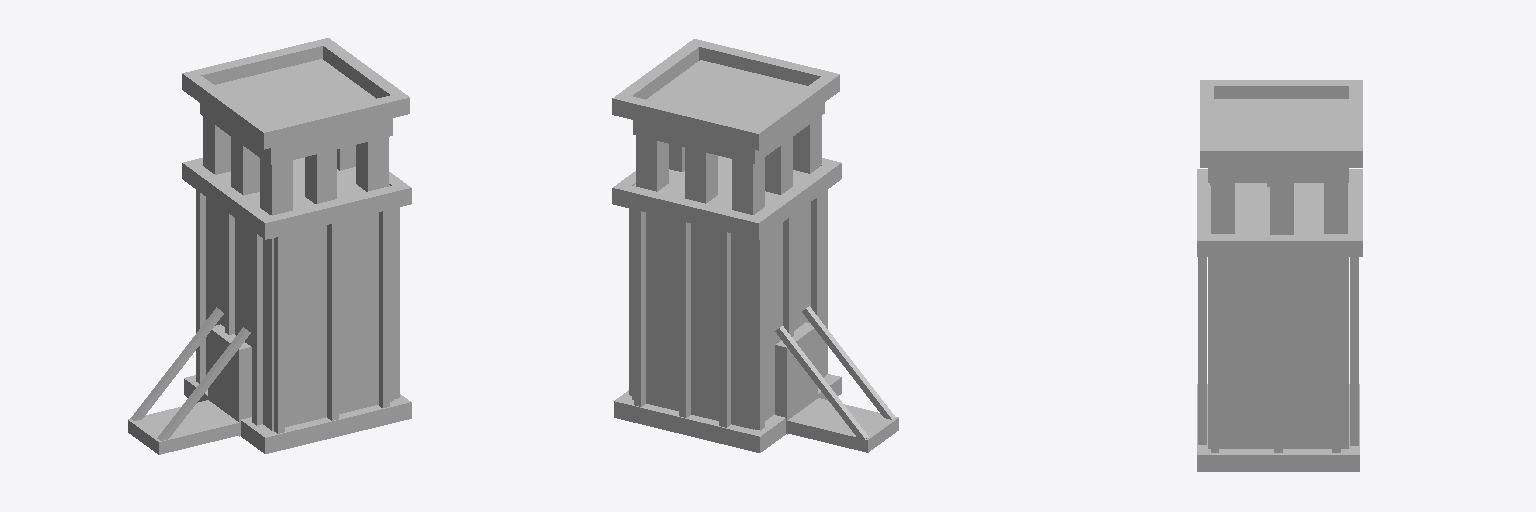
Rendered from tower.obj.
3 views of the same model, side by side, from view 1: azimuth 30°, elevation 25°; view 2: azimuth 150°, elevation 25°; view 3: azimuth 270°, elevation 25° (orthographic).
Parts seen in each view (by area): view 1: cube; view 2: cube; view 3: cube.
Part boxes in pixels (bbox=[...]): cube: bbox=[128, 38, 411, 454]; cube: bbox=[612, 39, 898, 452]; cube: bbox=[1197, 80, 1362, 471].
Bounding box in the file's own units: 1.17 × 1.57 × 0.7375.